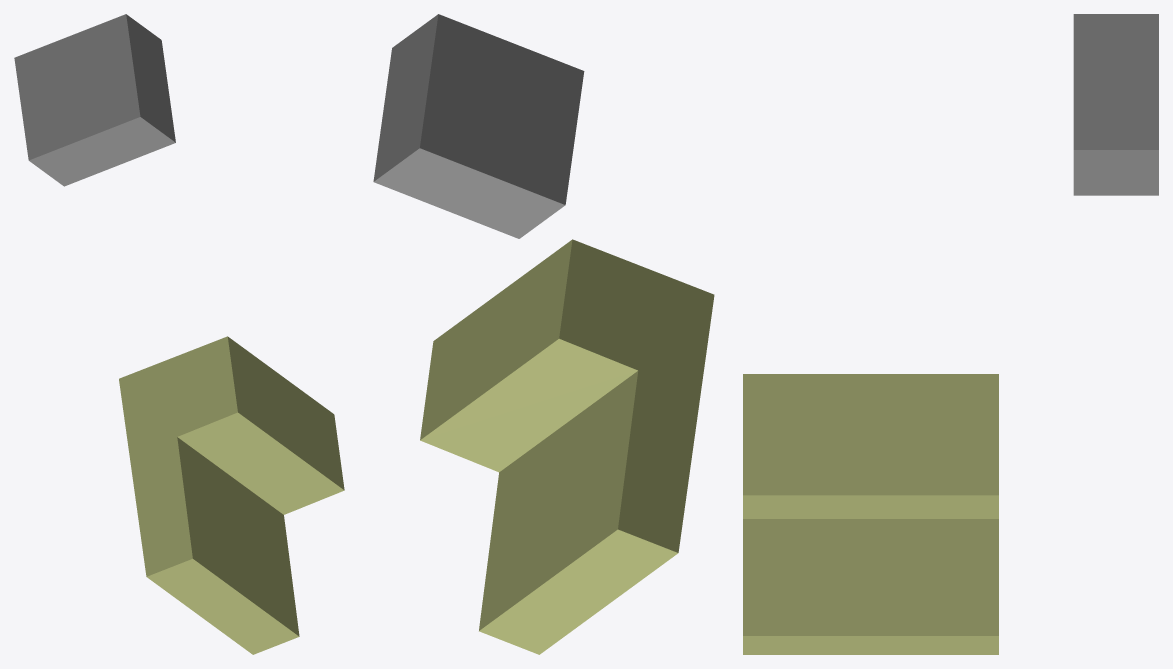
The picture shows the model from 3 angles, left to right: view 1: azimuth 30°, elevation 25°; view 2: azimuth 150°, elevation 25°; view 3: azimuth 270°, elevation 25°; orthographic projection. The views are drawn at different scales.
Parts seen in each view (by area): view 1: 0_1_3_2_2_1_0_1_1; view 2: 0_1_3_2_2_1_0_1_1; view 3: 0_1_3_2_2_1_0_1_1.
Part boxes in pixels (x1,y1,x2,y2): 0_1_3_2_2_1_0_1_1: [14, 14, 344, 654]; 0_1_3_2_2_1_0_1_1: [373, 14, 714, 654]; 0_1_3_2_2_1_0_1_1: [743, 14, 1158, 654].
Bounding box in the file's own units: 7.65 × 23.41 × 14.62.
